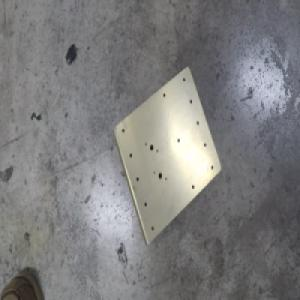MetalSheet: (110, 64, 222, 248)
